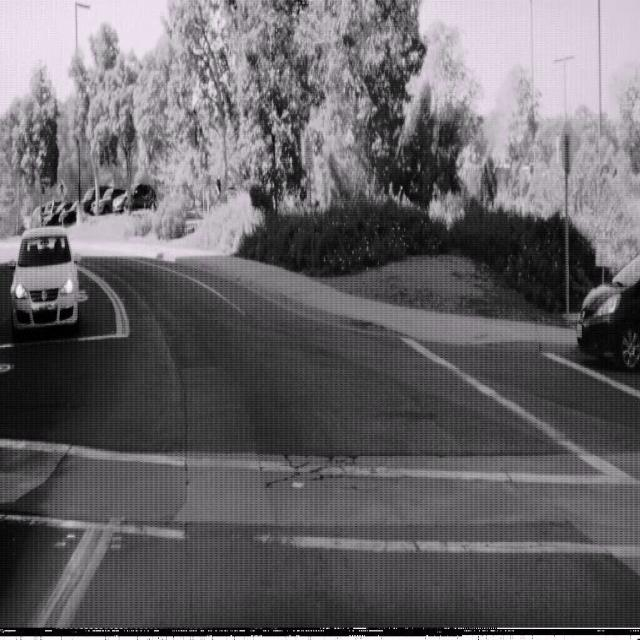pedestrianCrossing: (54, 176, 69, 204)
